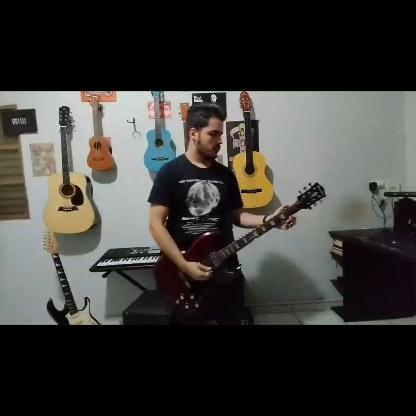acousticguitar: (43, 105, 101, 233), (232, 92, 274, 209), (144, 91, 176, 173)
guitar: (152, 181, 327, 315), (40, 226, 101, 326)
